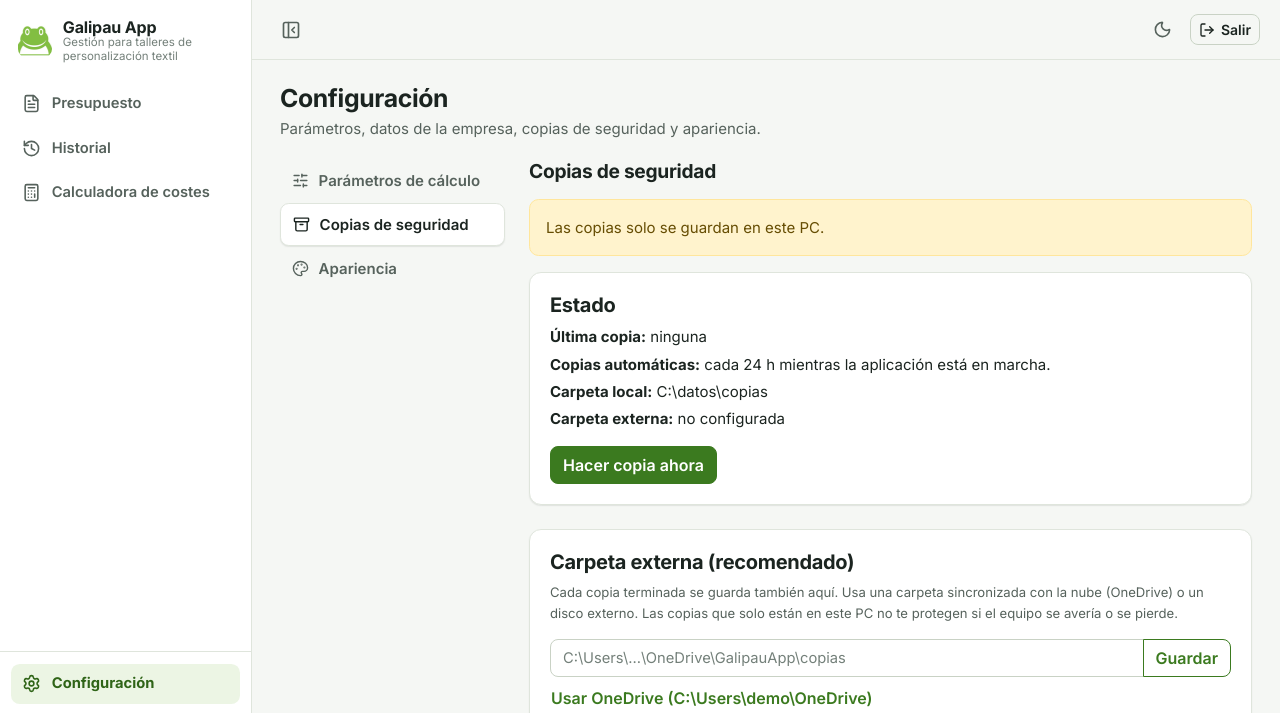
Test: App — copias de seguridad › muestra avisos, crea una copia y la lista
The width and height of the screenshot is (1280, 713).
expect the text "Las copias solo se guardan en este PC." is shown: met, box [529,199,1252,256]
Step 1. Click the button "Hacer copia ahora" → (633, 466), box [550,446,717,484]
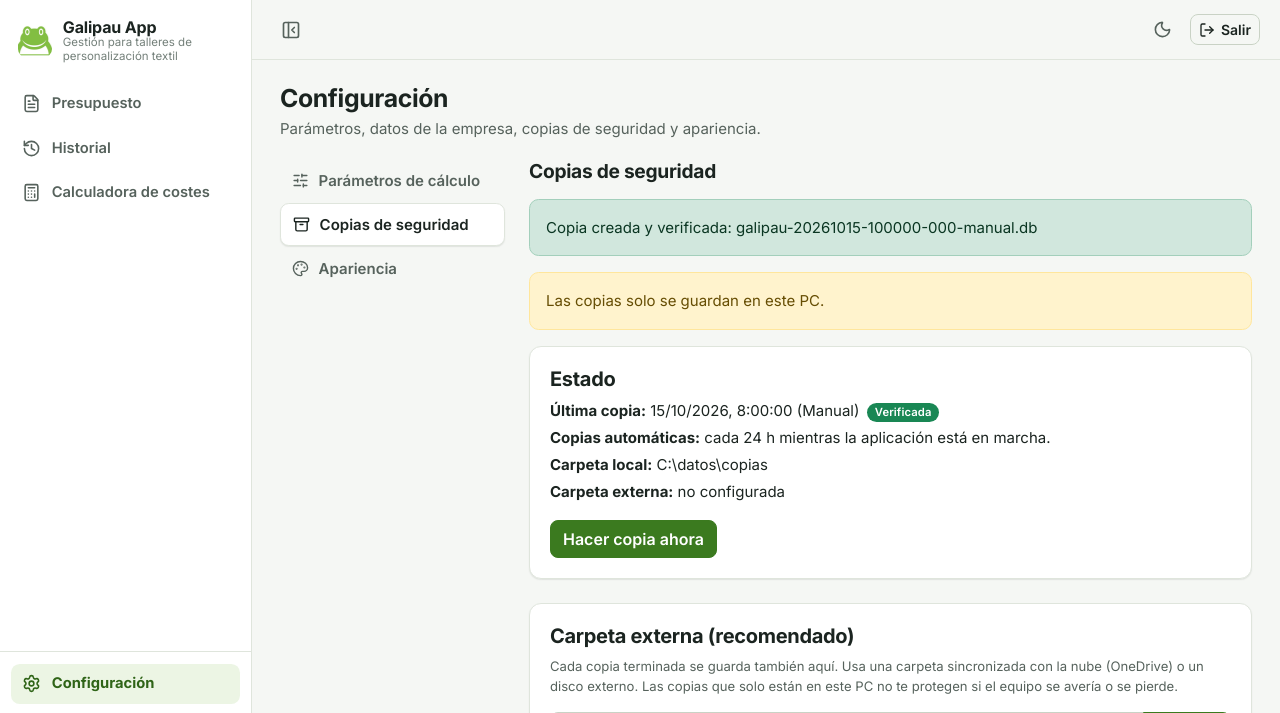
expect the text "Copia creada y verificada: galipau-20261015-100000-000-manual.db" is shown: met, box [529,199,1252,256]
expect the text "Verificada" is shown: met, box [867,403,939,422]
